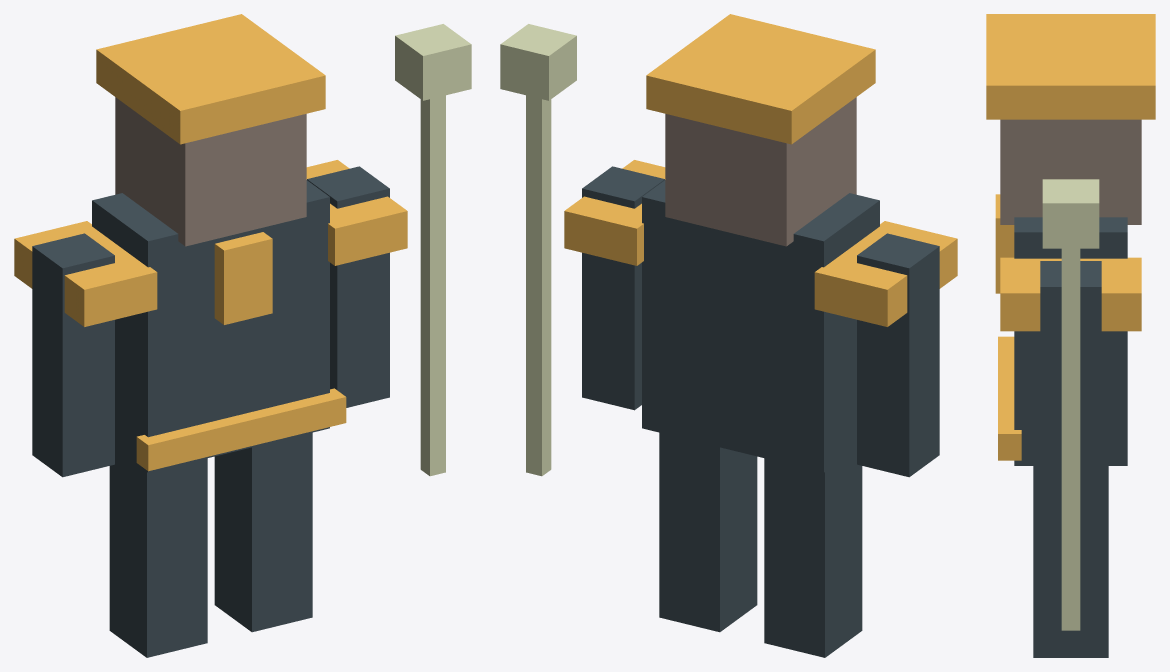
The model's file is 05_tamsin_ashvein_courier_under_containment.glb.
3 renders of one model, left to right at view 1: azimuth 30°, elevation 25°; view 2: azimuth 150°, elevation 25°; view 3: azimuth 270°, elevation 25°, orthographic.
Parts seen in each view (by area): view 1: Tamsin Ashvein, Courier under Containment; view 2: Tamsin Ashvein, Courier under Containment; view 3: Tamsin Ashvein, Courier under Containment.
Part boxes in pixels (x1,y1,x2,y2): Tamsin Ashvein, Courier under Containment: [14, 14, 471, 657]; Tamsin Ashvein, Courier under Containment: [500, 14, 957, 657]; Tamsin Ashvein, Courier under Containment: [986, 14, 1155, 657].
Size of the model in its own units: 1.12 by 1.46 by 0.396.
